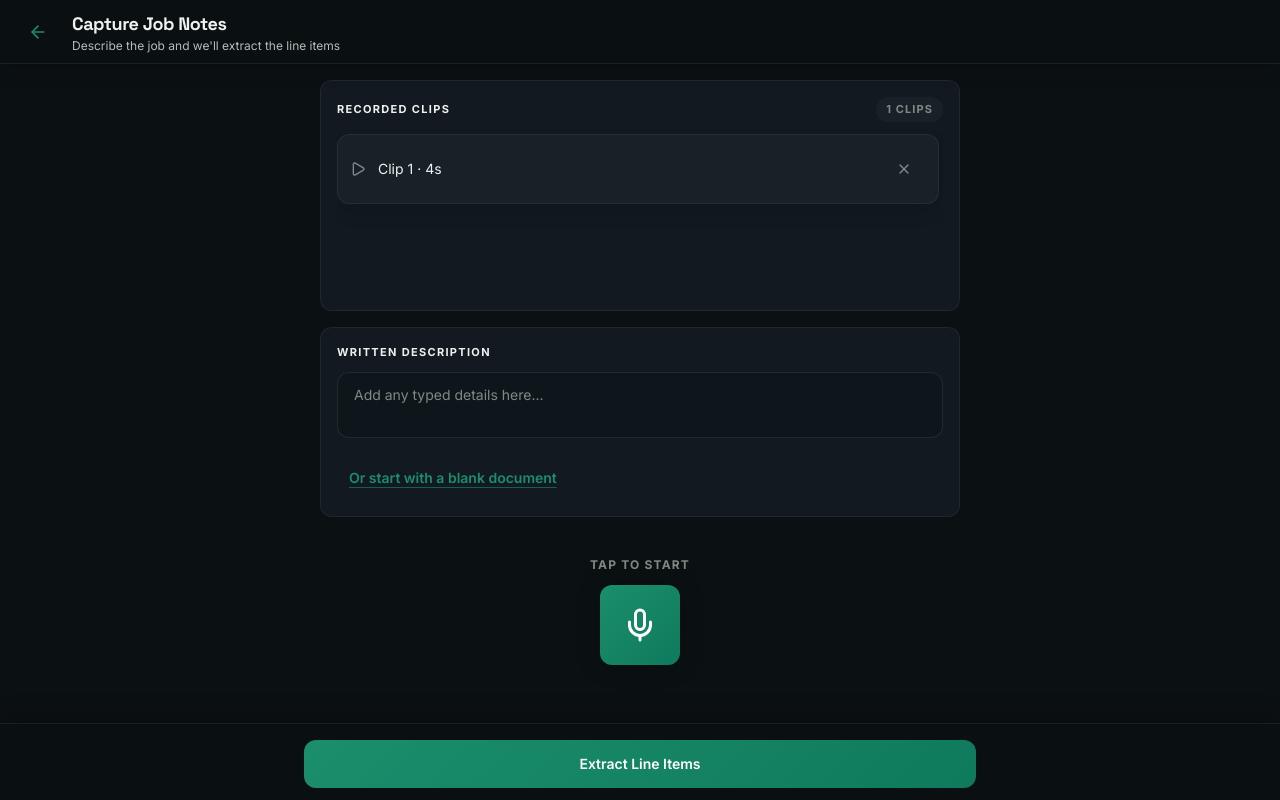
Test case: CaptureScreen › dismisses the leave confirmation when Stay is clicked
The image size is (1280, 800).
Click the button named "go back" at coordinates (38, 32), box left=16, top=10, right=60, bottom=54
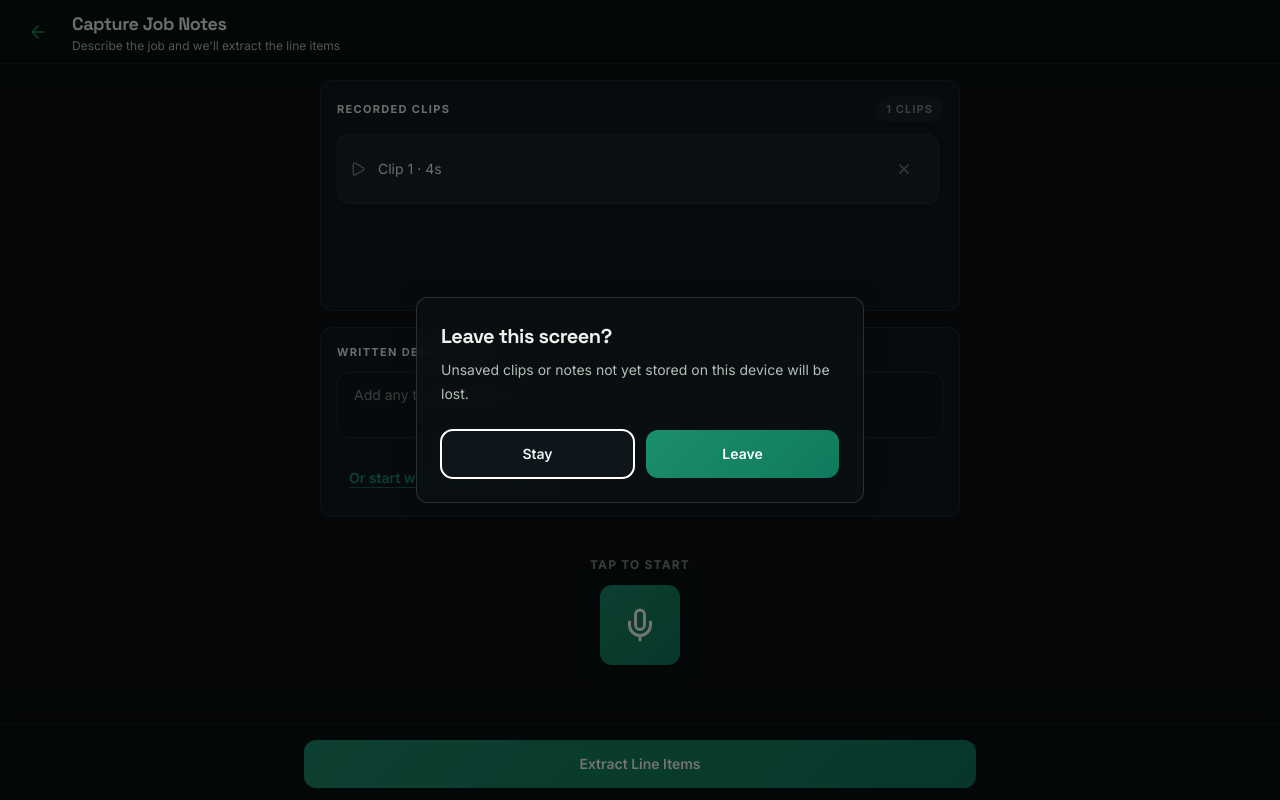
Click the button "Stay" at coordinates (538, 454), box left=441, top=430, right=634, bottom=478
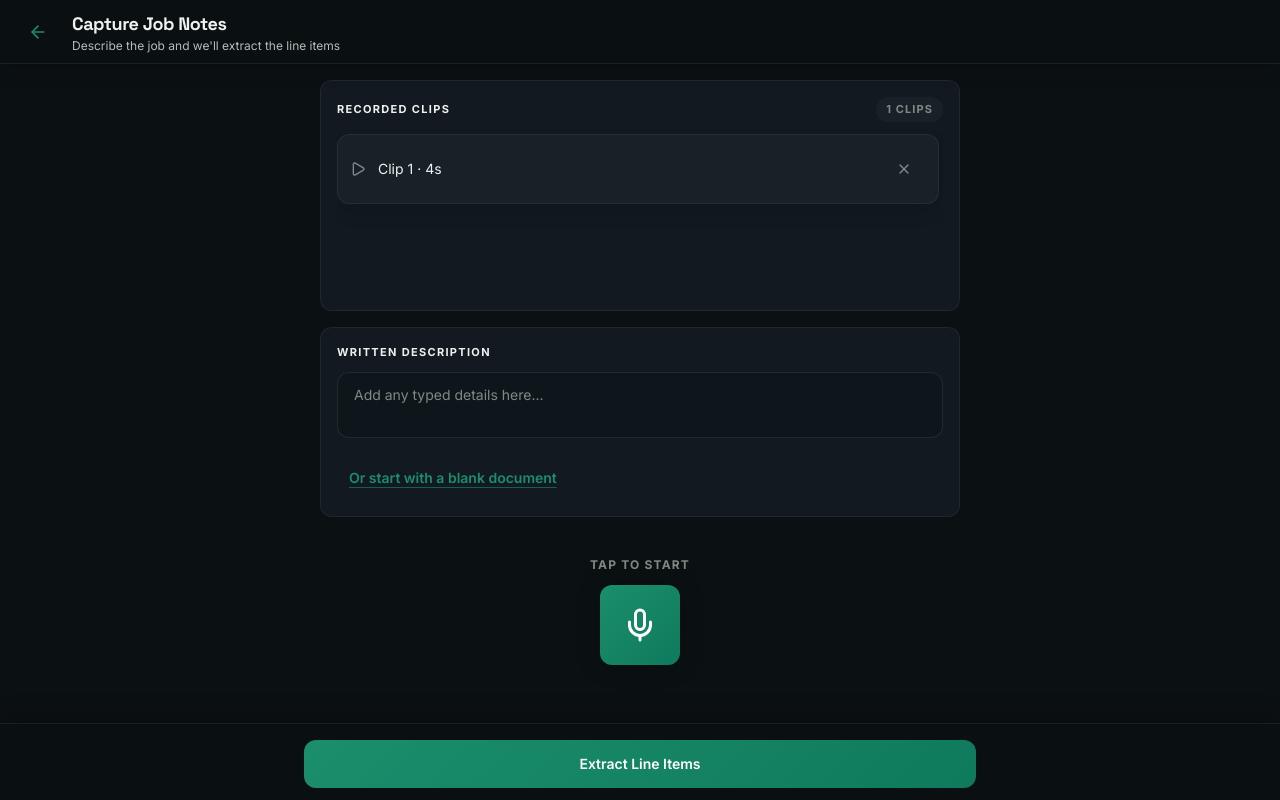
Now the heading "Leave this screen?" is gone
